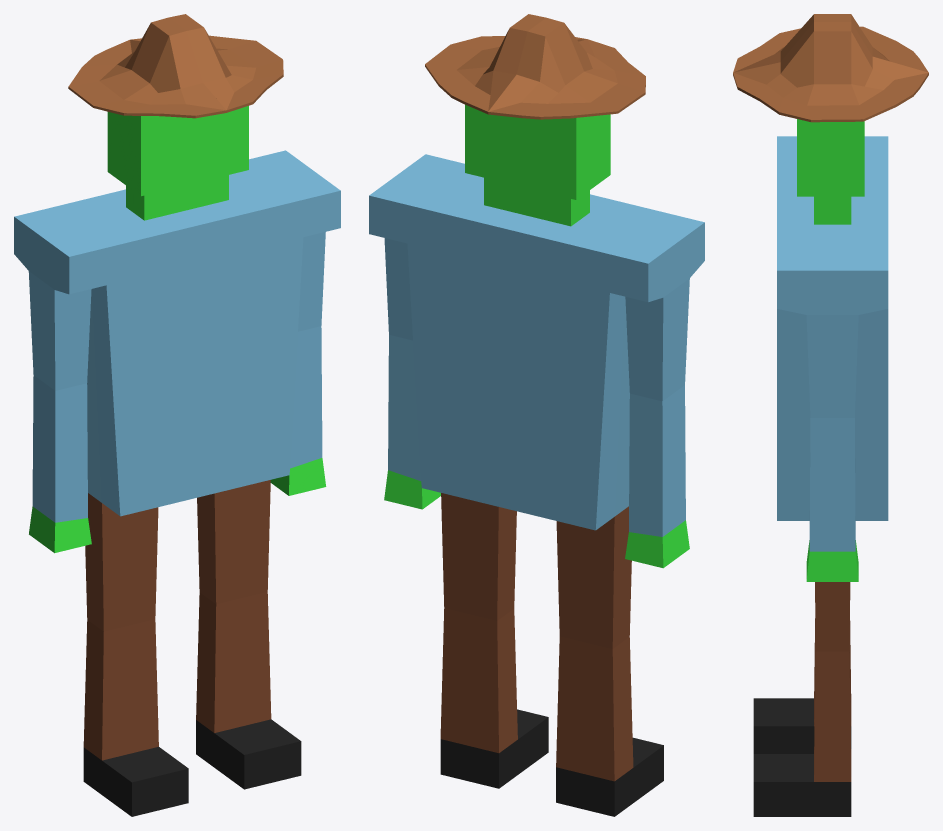
File: Human_Ranger.fbx
The picture shows the model from 3 angles, left to right: view 1: azimuth 30°, elevation 25°; view 2: azimuth 150°, elevation 25°; view 3: azimuth 270°, elevation 25°; orthographic projection. The views are drawn at different scales.
Visible parts, largest first — view 1: Human_Ranger; view 2: Human_Ranger; view 3: Human_Ranger.
Boxes of the visible parts, box(x1,y1,x2,y2) form: Human_Ranger: box(14, 14, 340, 816); Human_Ranger: box(369, 14, 704, 816); Human_Ranger: box(733, 14, 928, 816).
Bounding box in the file's own units: 70.61 × 185 × 43.5.
